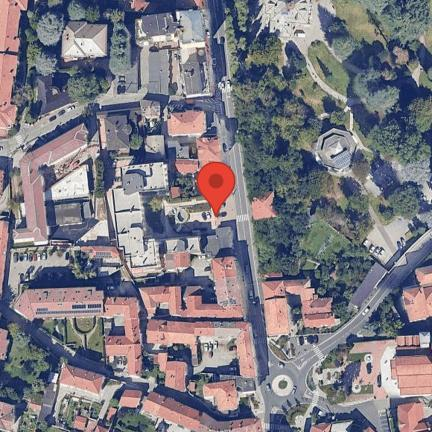area_open: (258, 342, 389, 422), (16, 253, 135, 289), (260, 2, 333, 50), (45, 384, 111, 425), (364, 222, 420, 268), (200, 349, 240, 376)
built: (14, 291, 141, 374), (17, 120, 90, 250), (143, 3, 216, 98), (139, 254, 246, 317), (110, 162, 169, 270), (148, 321, 259, 378), (142, 393, 264, 431), (158, 358, 239, 412), (264, 278, 339, 334), (392, 338, 429, 429), (69, 389, 148, 430), (1, 3, 26, 129), (102, 107, 164, 152), (48, 164, 90, 230), (65, 19, 109, 64), (401, 262, 428, 322), (57, 363, 105, 393), (1, 159, 11, 291), (75, 241, 123, 262), (308, 418, 372, 431), (172, 111, 206, 134), (251, 190, 273, 218), (0, 395, 18, 429), (200, 142, 215, 162), (3, 322, 11, 355), (174, 161, 193, 174)
vegetation_high: (228, 8, 374, 273), (326, 3, 430, 222), (19, 4, 125, 123), (64, 19, 133, 104), (316, 246, 370, 320), (364, 297, 402, 338), (122, 413, 153, 426)
vegetation_low: (2, 338, 53, 407), (304, 42, 350, 118), (45, 321, 100, 360), (303, 220, 345, 268), (338, 2, 375, 44)
